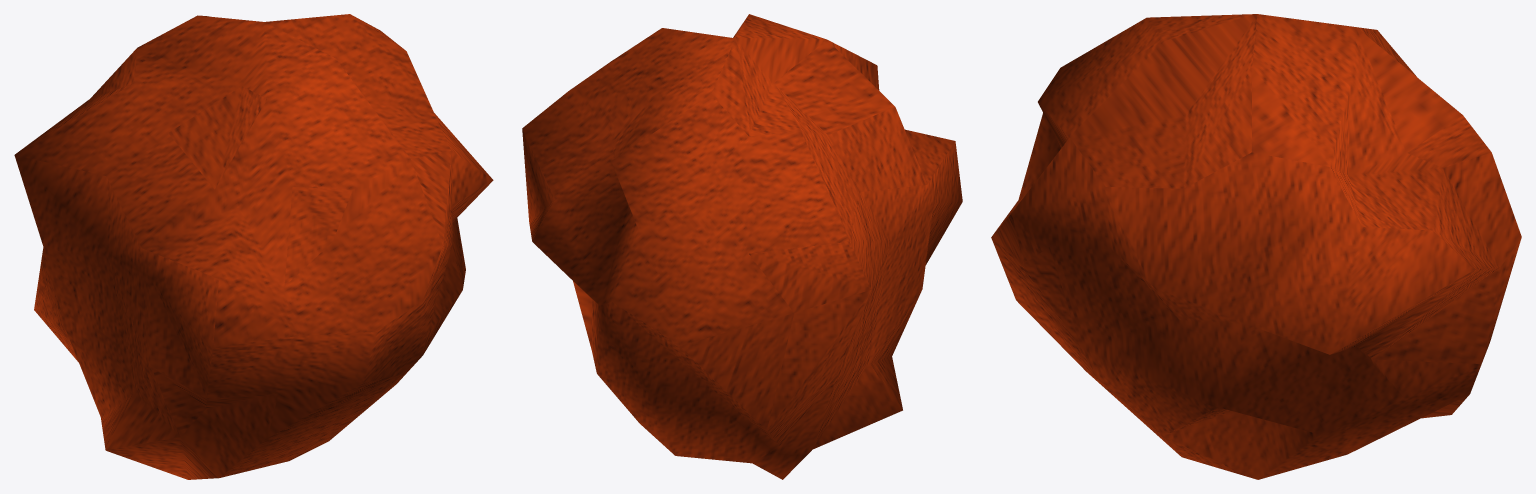
The model's file is meteorite-03.obj.
The picture shows the model from 3 angles, left to right: view 1: azimuth 30°, elevation 25°; view 2: azimuth 150°, elevation 25°; view 3: azimuth 270°, elevation 25°; orthographic projection. The views are drawn at different scales.
Parts seen in each view (by area): view 1: Cube.005_Cube.086; view 2: Cube.005_Cube.086; view 3: Cube.005_Cube.086.
Part boxes in pixels (<box>): Cube.005_Cube.086: <box>14,14,493,479</box>; Cube.005_Cube.086: <box>522,14,962,479</box>; Cube.005_Cube.086: <box>991,14,1521,479</box>.
Bounding box in the file's own units: 1.57 × 1.73 × 1.77.
Materials: 1 (1 with a texture image).
